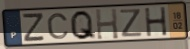C: (46, 12, 71, 41)
H: (94, 7, 120, 41), (144, 6, 170, 39)
Q: (69, 9, 97, 41)
Z: (119, 8, 144, 39), (22, 12, 46, 43)
